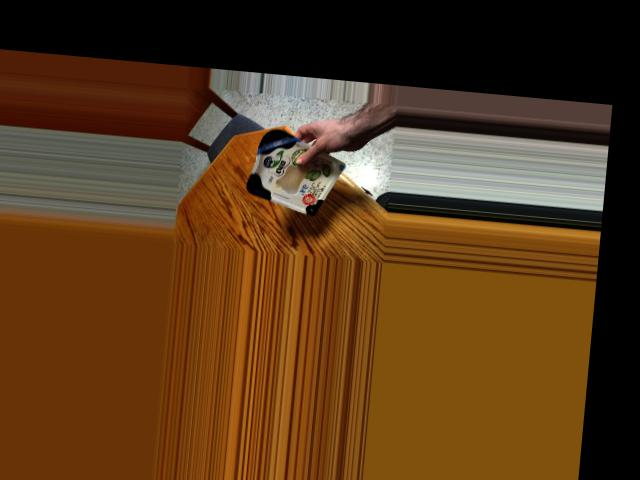cheese: (242, 124, 333, 215)
